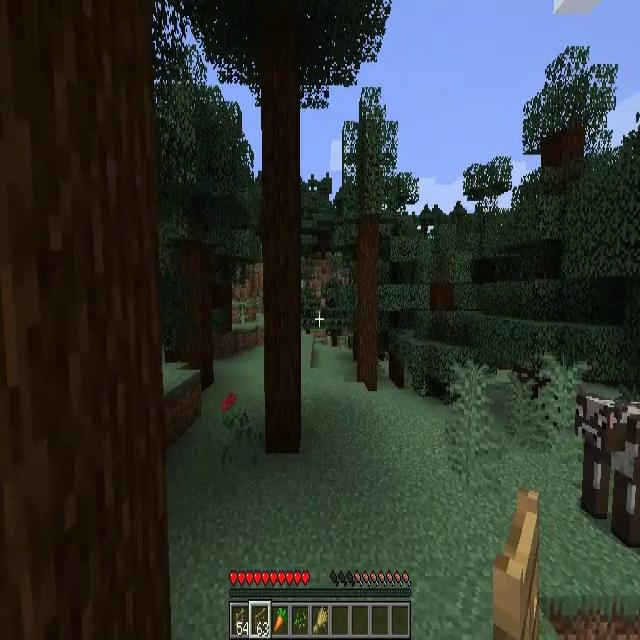cow: (576, 390, 640, 550)
